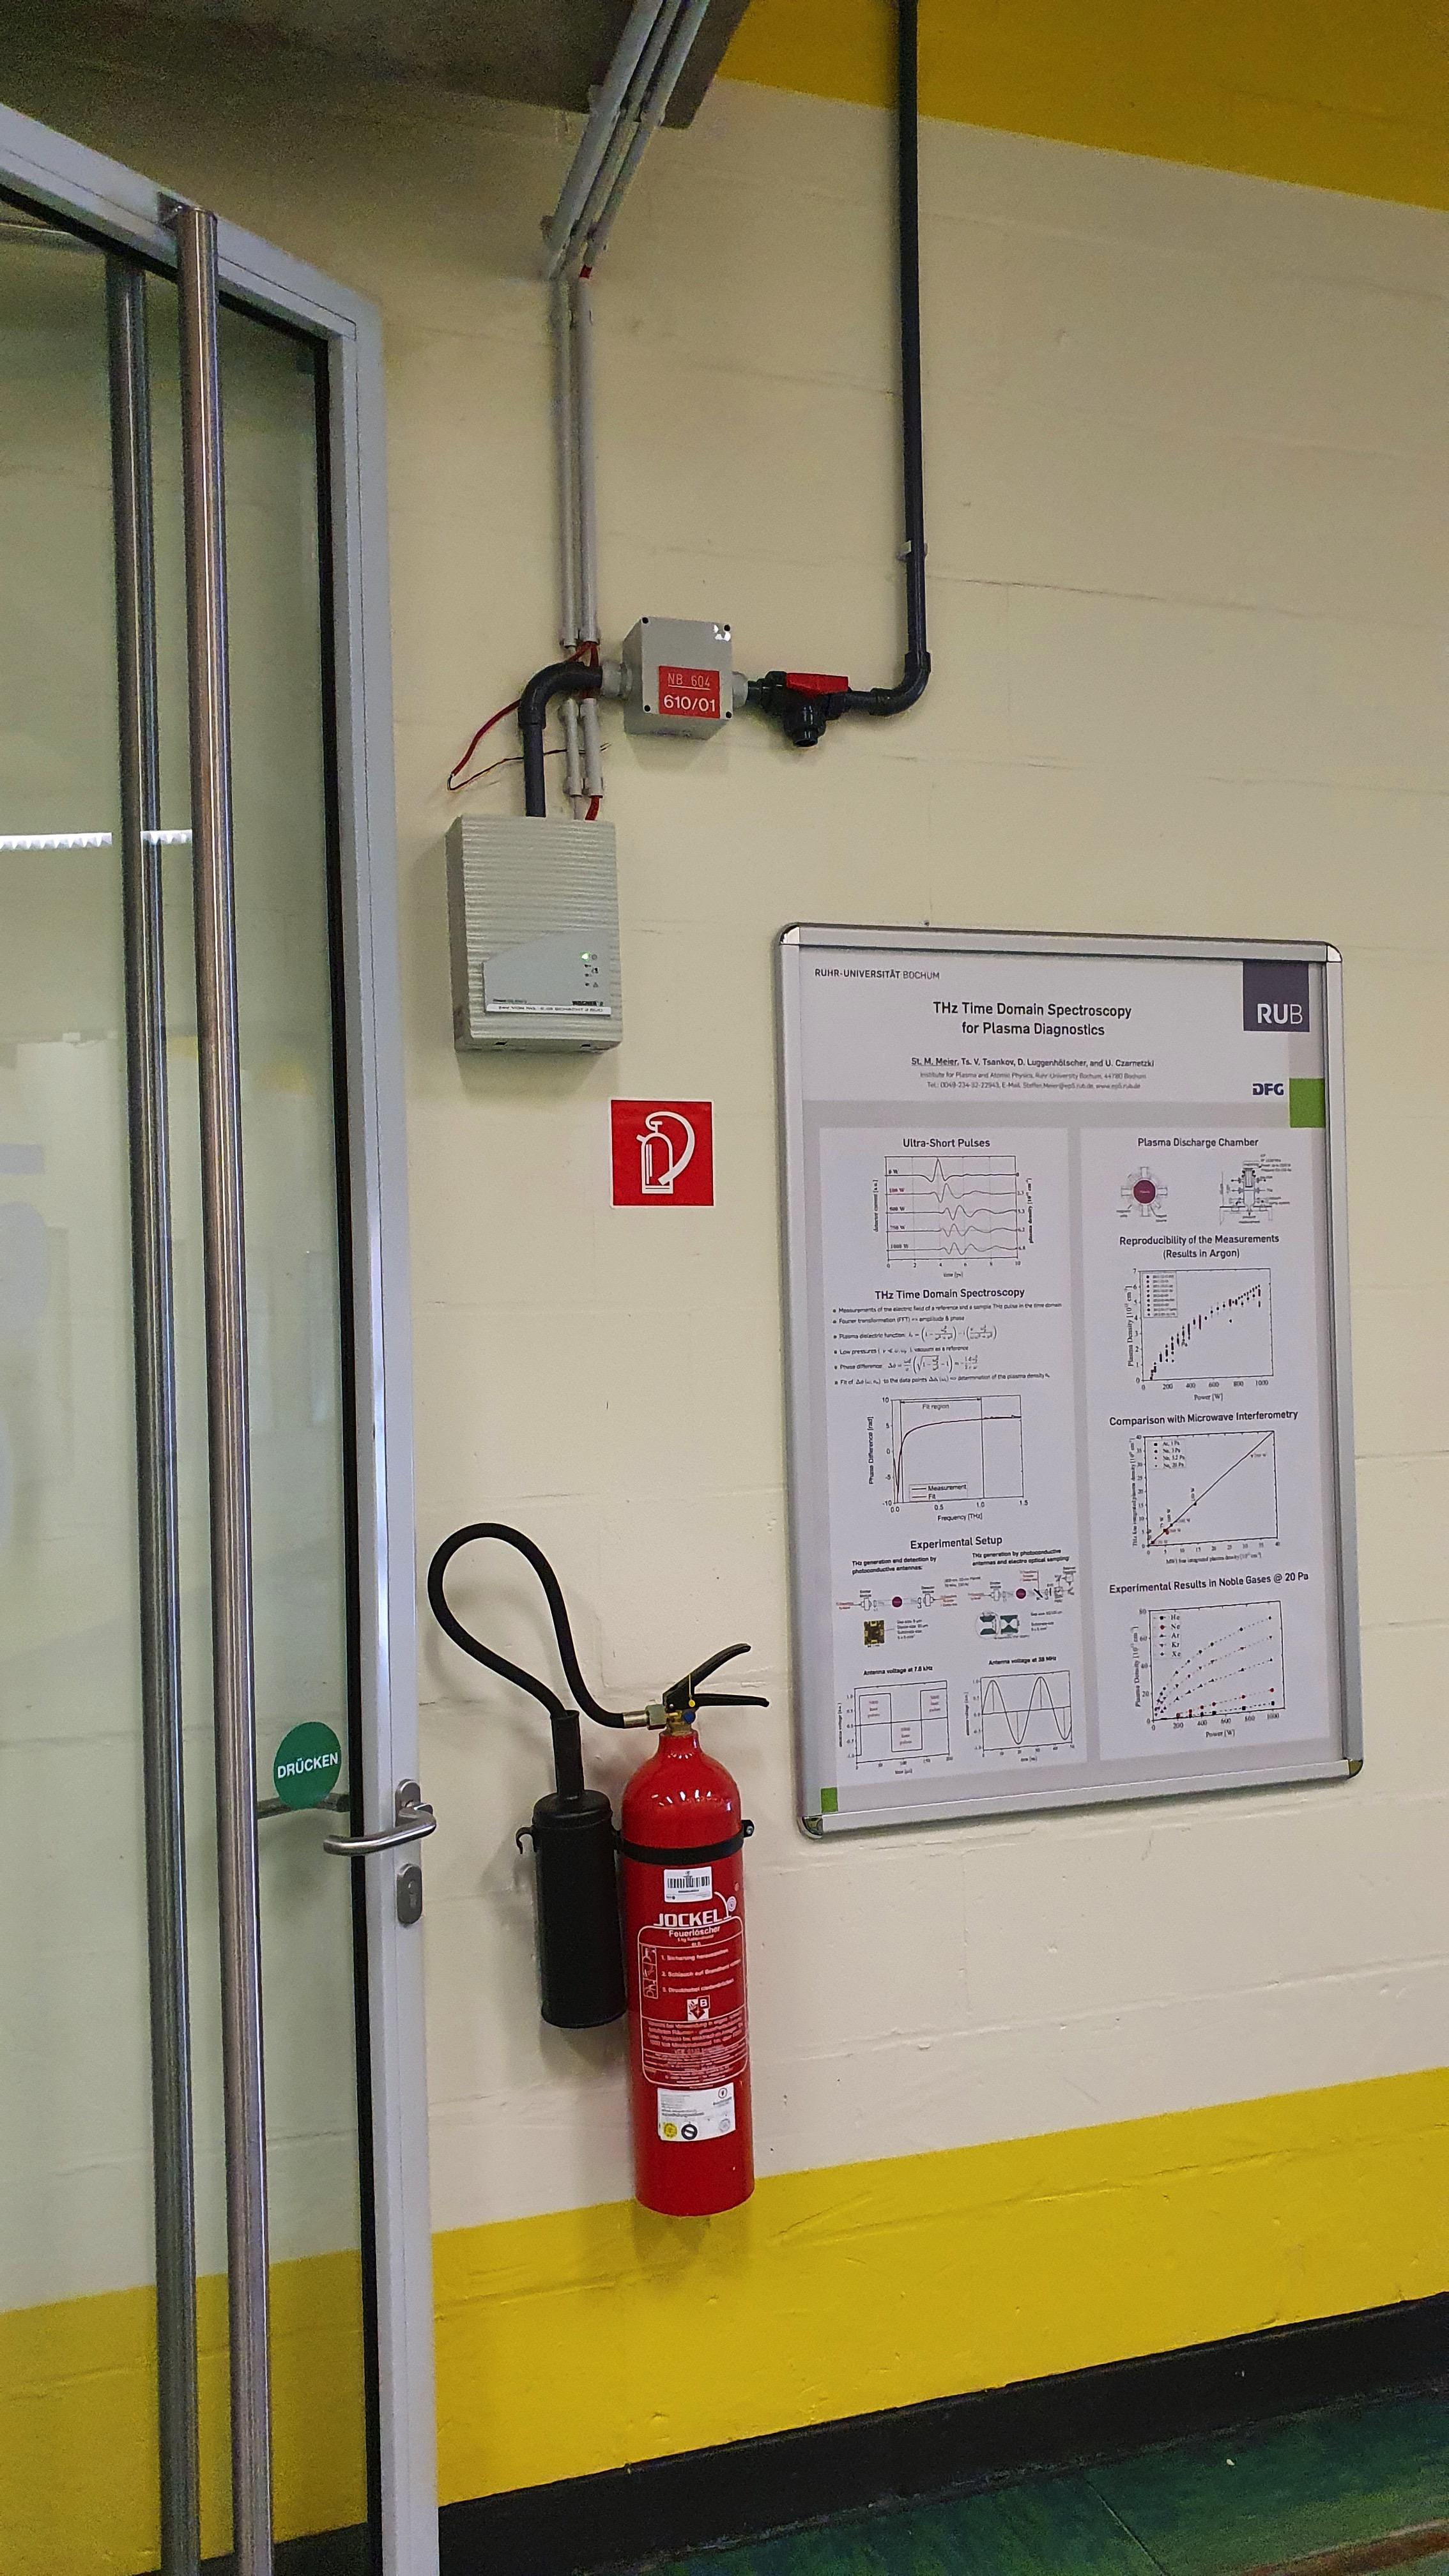extinguisher: (426, 1523, 770, 2218)
